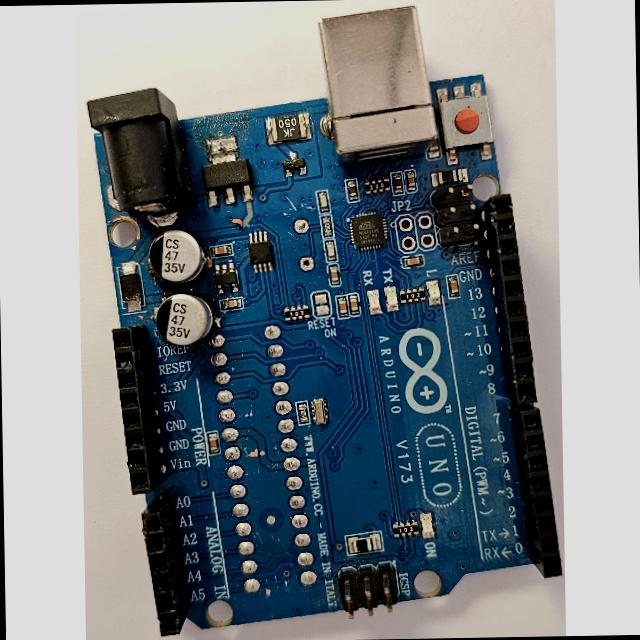missing_atmega: (206, 311, 327, 604)
missing_crystal_os: (273, 197, 323, 294)
